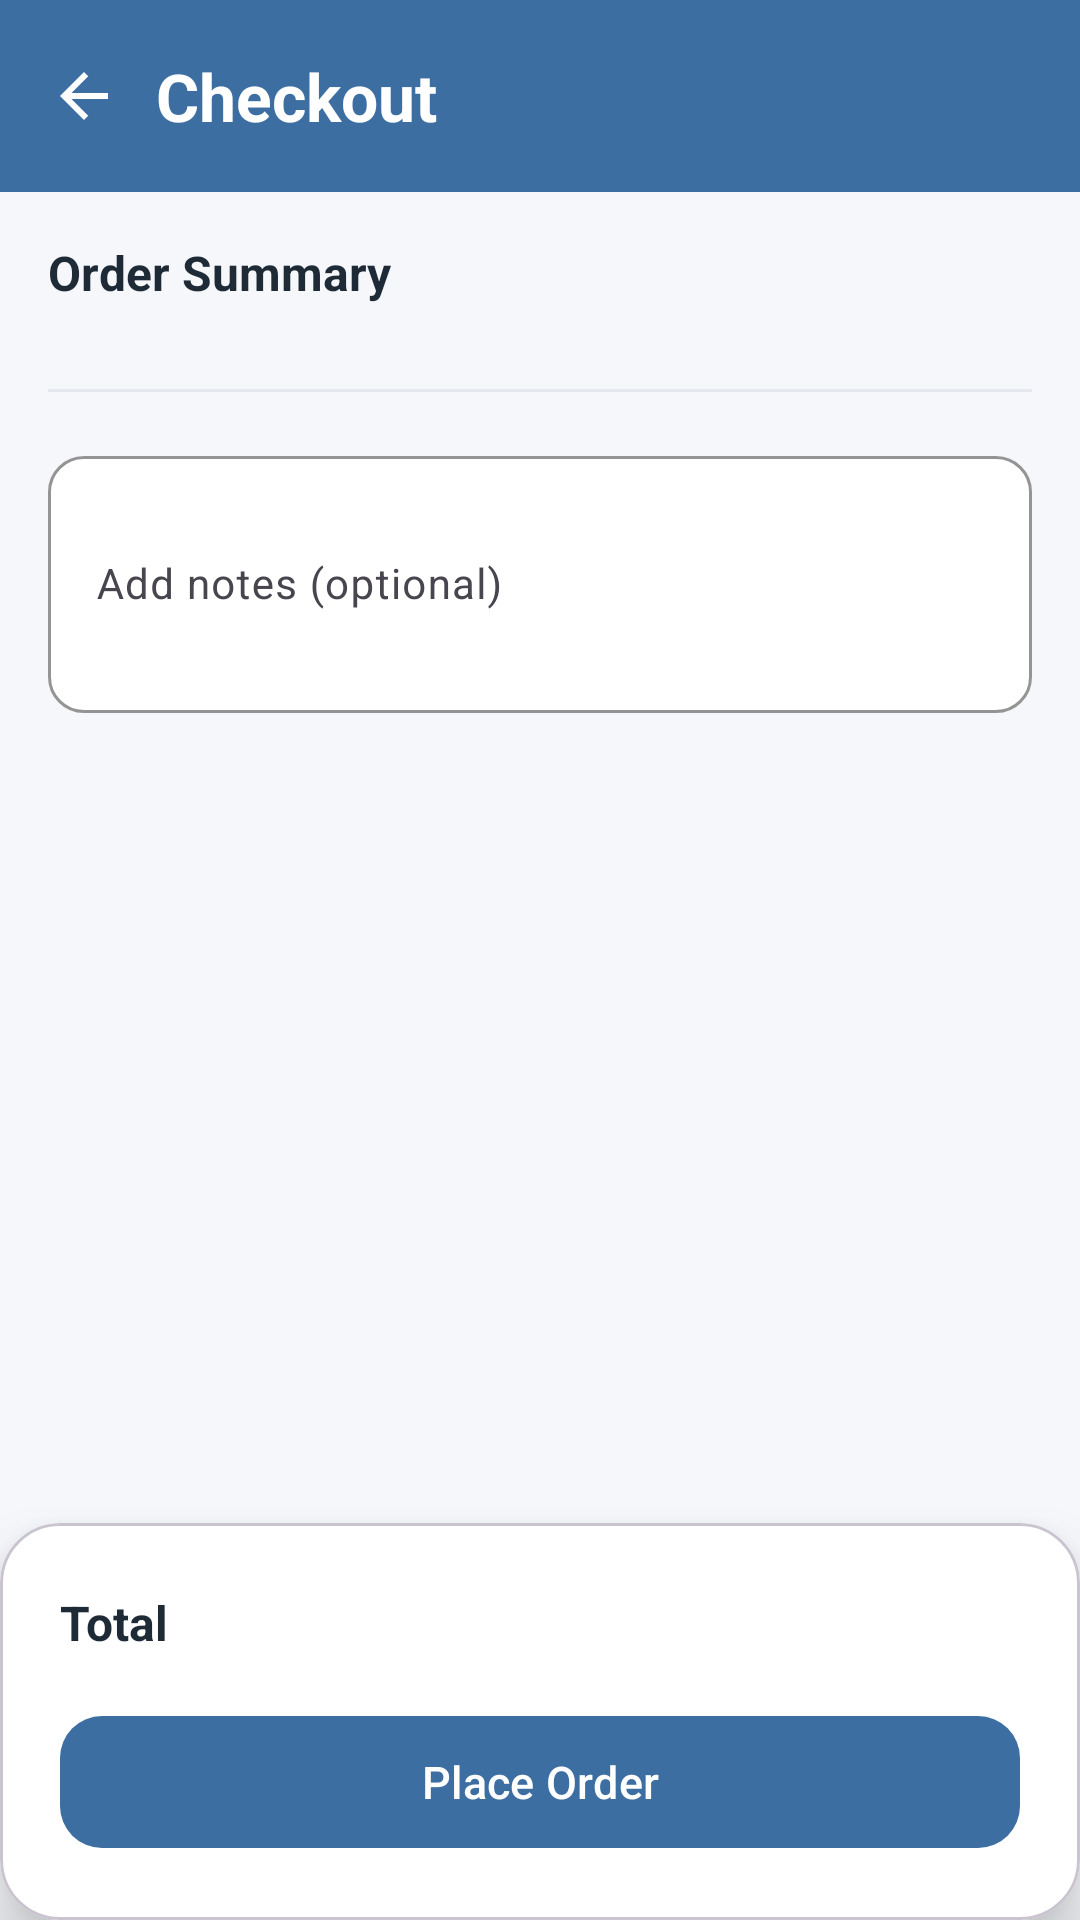

Point at icon controls on the screen. Image size 1080 × 1920, points as [x,y].
Back: [84,96]
